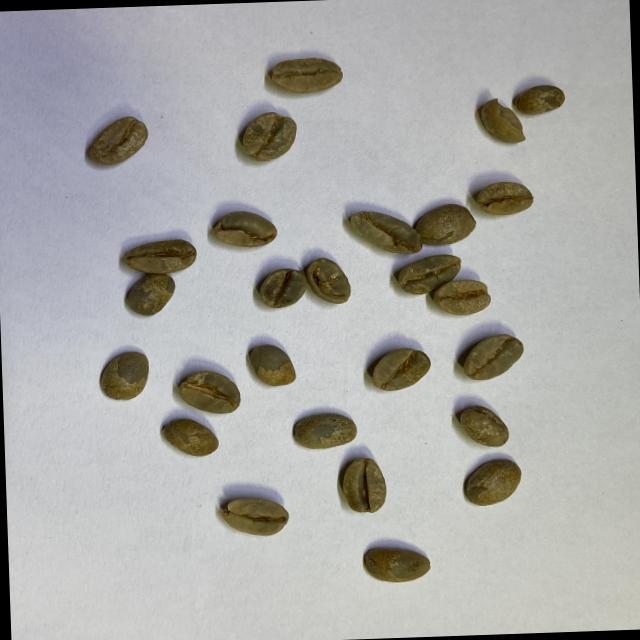bad: (348, 208, 422, 255), (178, 370, 242, 415), (397, 252, 462, 294), (214, 211, 279, 248), (306, 256, 352, 304), (478, 98, 525, 144)
good: (460, 331, 524, 382), (86, 116, 149, 167), (221, 494, 289, 539), (462, 456, 522, 506), (362, 542, 432, 584), (372, 345, 432, 392), (413, 202, 477, 246), (242, 111, 298, 161), (270, 56, 343, 94), (123, 238, 198, 274), (341, 456, 387, 514), (290, 411, 358, 450), (99, 350, 150, 400), (456, 403, 511, 449), (124, 271, 176, 317), (432, 278, 492, 317), (162, 417, 218, 458), (249, 342, 297, 388), (476, 180, 534, 217), (258, 268, 308, 309), (511, 83, 566, 117)
